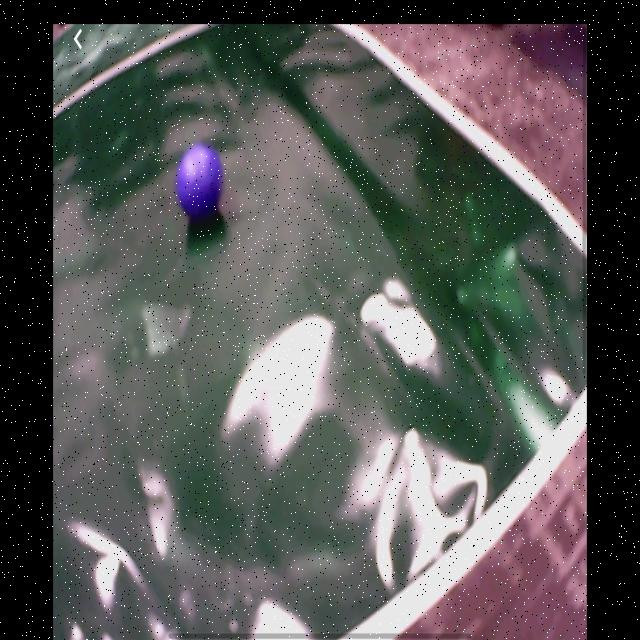ball: (177, 143, 225, 222)
